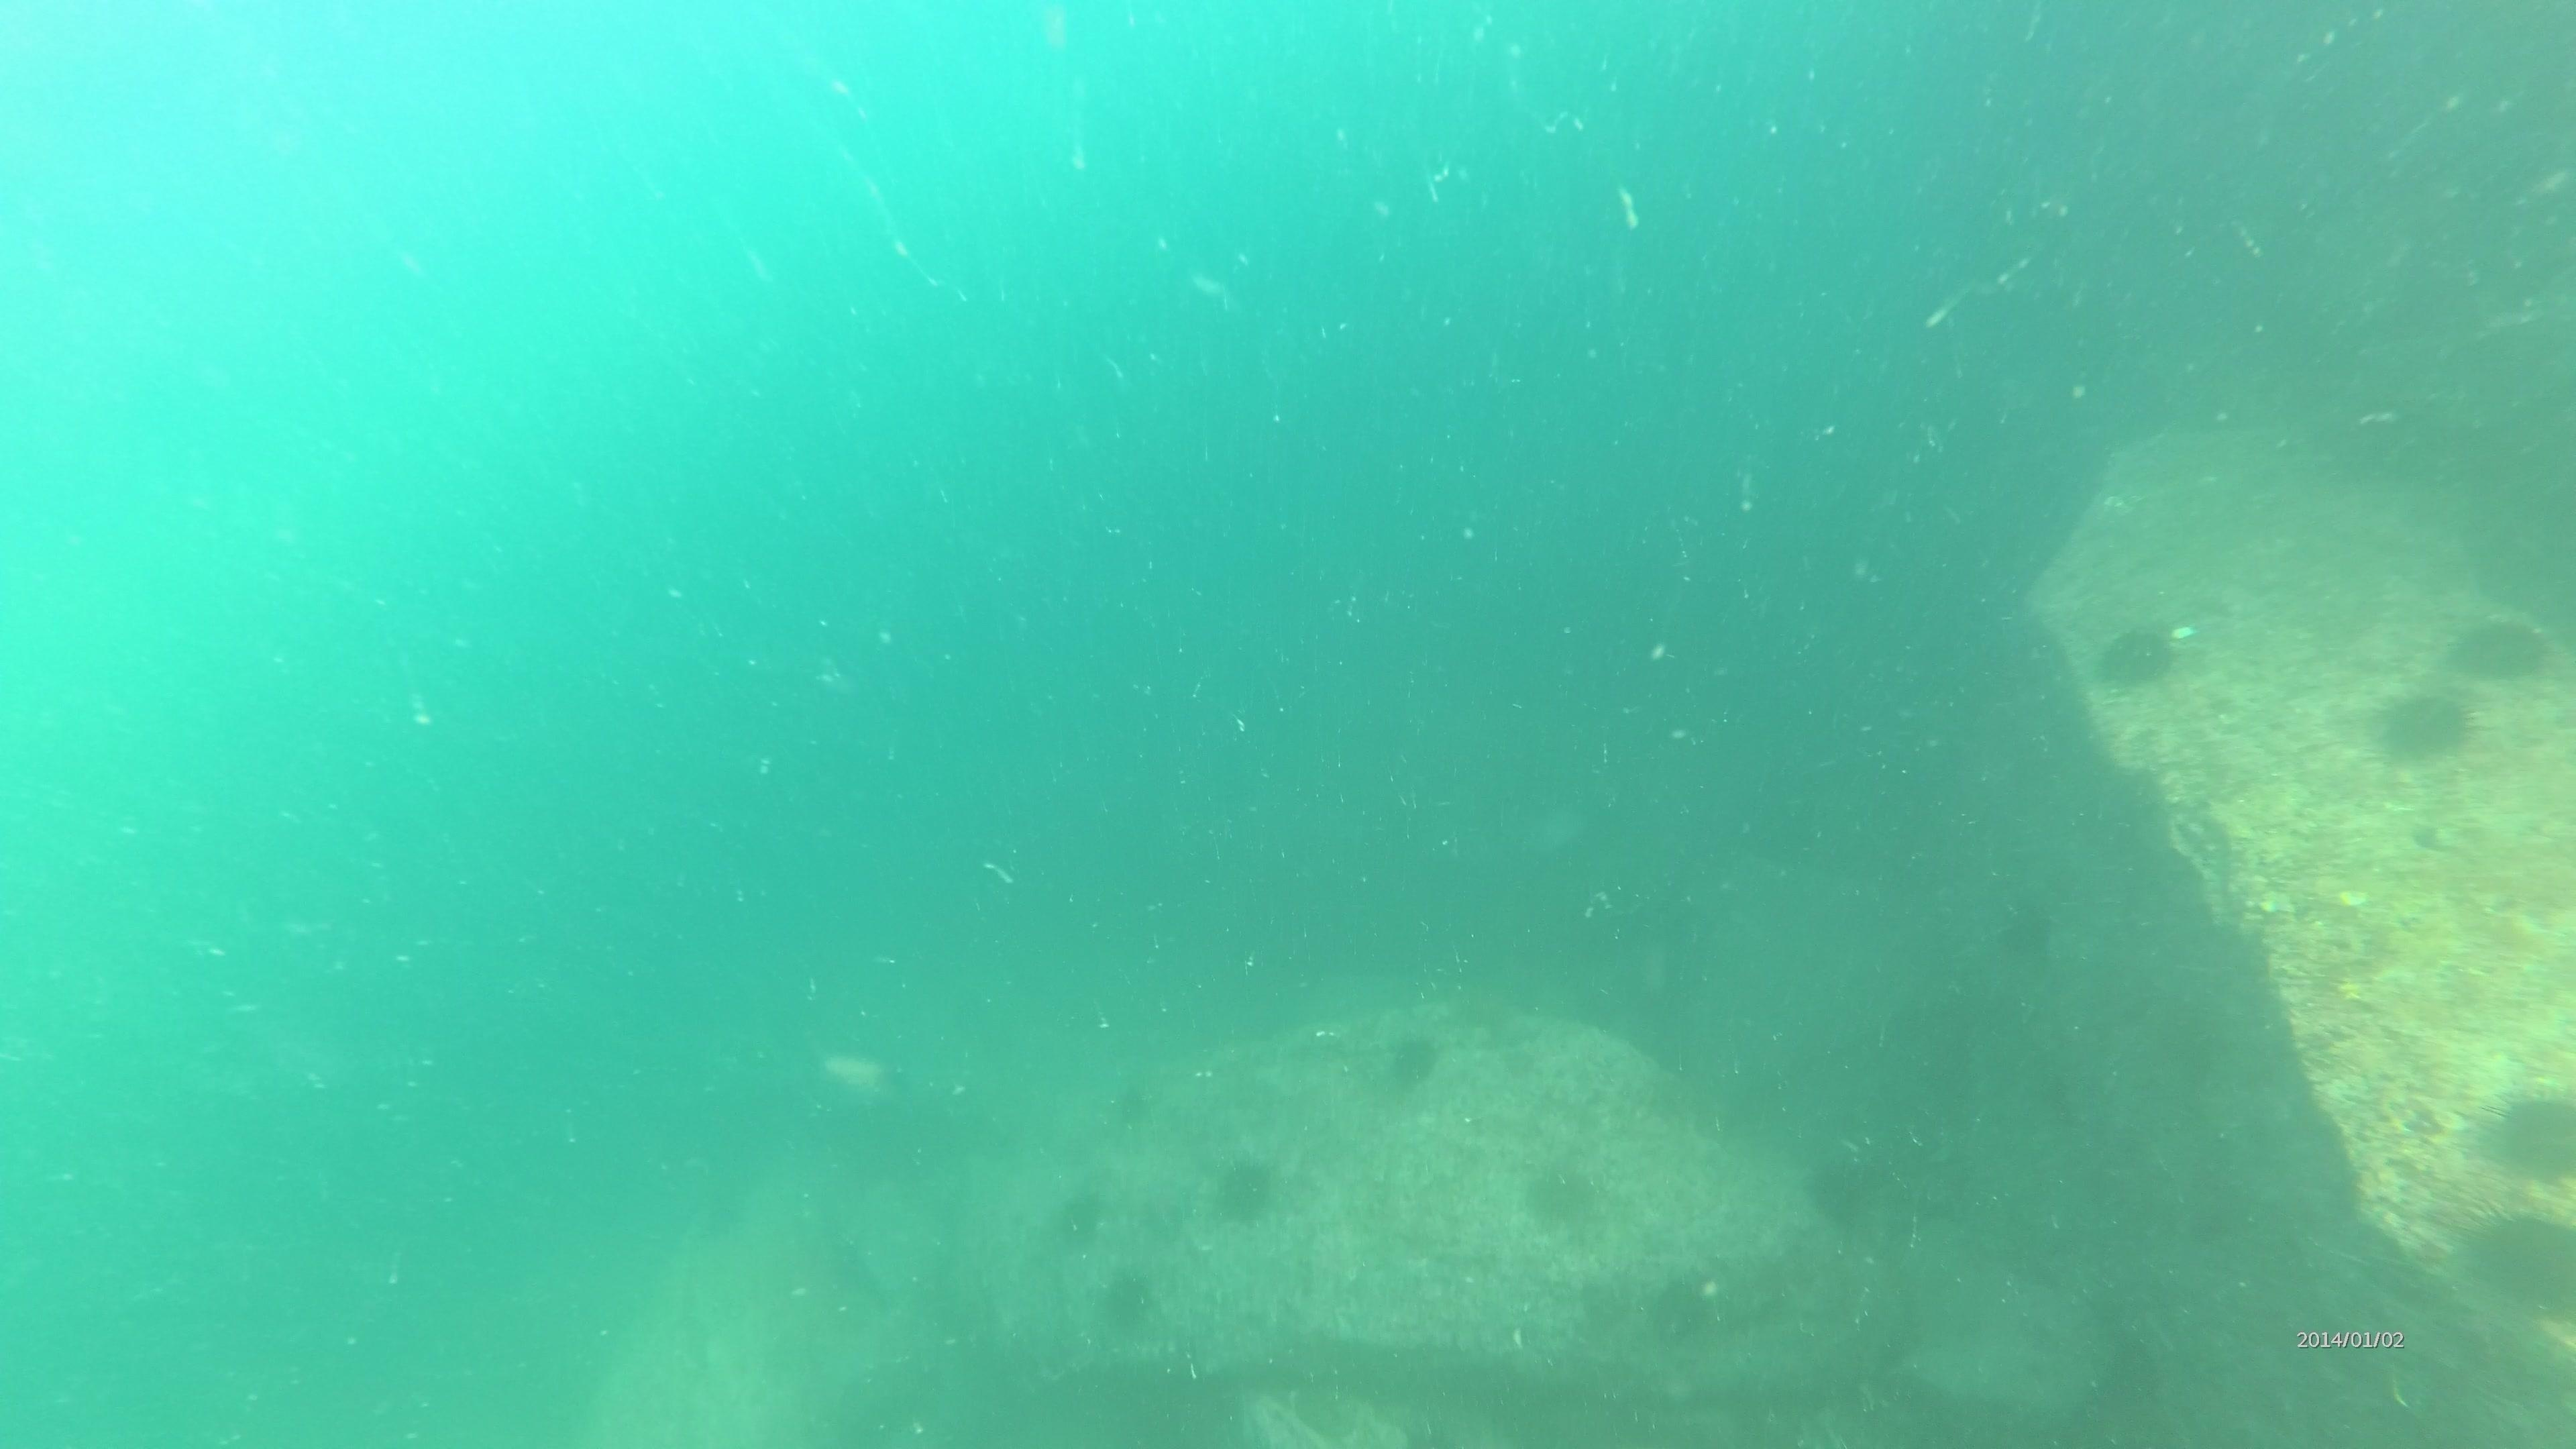echinus: (2456, 1200, 2574, 1320), (2480, 1079, 2576, 1189), (2369, 679, 2480, 770), (2445, 605, 2557, 688), (1516, 1148, 1610, 1238), (1799, 1141, 1888, 1235), (2089, 614, 2187, 697), (1640, 1267, 1727, 1355), (1205, 1146, 1288, 1230), (1090, 1261, 1166, 1341), (1375, 1023, 1447, 1097), (1044, 1180, 1111, 1253)
